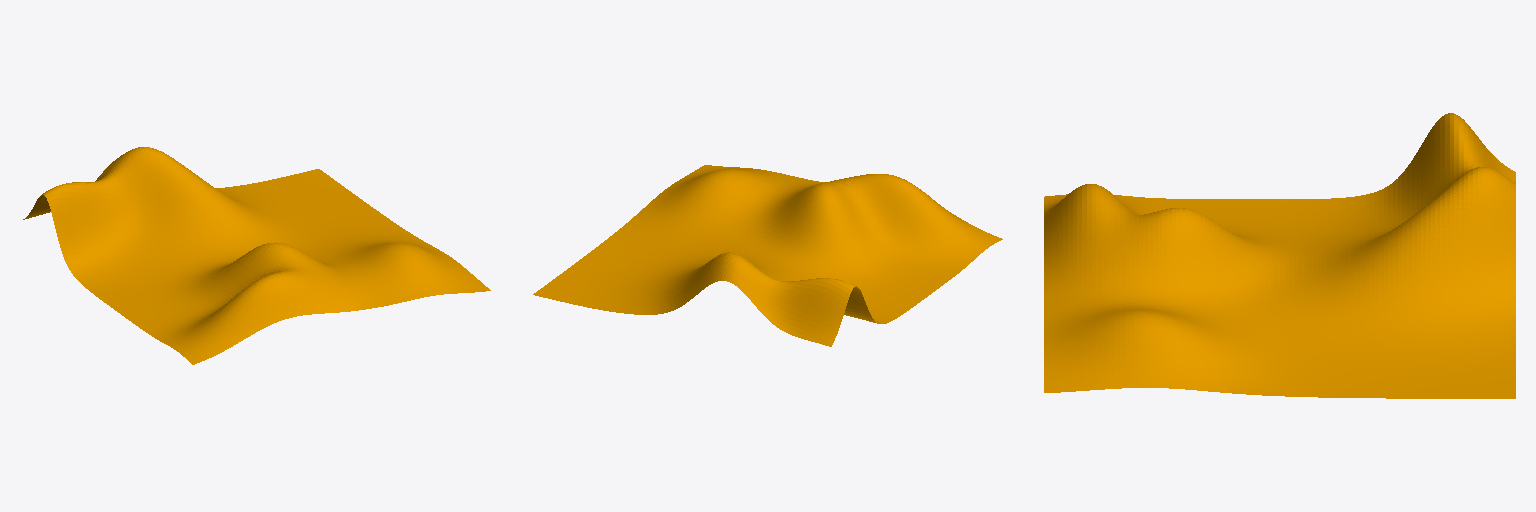
The robot description file, URDF, robot "terrain":
<?xml version="1.0" ?>
<robot name="terrain">

  <link name="terrain_link">
    <visual>
      <origin xyz="0 0 0" rpy="0 0 0"/>
      <geometry>
        <mesh filename="generation\Terrain_Generation\terrain_type\Mountain\Mountain_8Peaks_150Height_42Seed.obj" scale="1 1 1"/>
      </geometry>
    </visual>
    <collision>
      <origin xyz="0 0 0" rpy="0 0 0"/>
      <geometry>
        <mesh filename="generation\Terrain_Generation\terrain_type\Mountain\Mountain_8Peaks_150Height_42Seed.obj" scale="1 1 1"/>
      </geometry>
    </collision>
  </link>

</robot>

--- Facts derived from the render (not from the file) ---
The picture shows the robot from 3 angles, left to right: view 1: azimuth 30°, elevation 25°; view 2: azimuth 150°, elevation 25°; view 3: azimuth 270°, elevation 25°; orthographic projection.
Robot: terrain — 1 links, 0 joints (none); root link terrain_link; default pose: all joints at 0.
Visible links, largest first — view 1: terrain_link; view 2: terrain_link; view 3: terrain_link.
Link boxes in pixels (x1,y1,x2,y2): terrain_link: (23, 147, 490, 364); terrain_link: (533, 165, 1002, 346); terrain_link: (1044, 113, 1515, 398).
Size in the robot's own frame: 1000 by 1000 by 242 metres.
Meshes: 1 distinct files referenced, 1 mesh visuals loaded (1 OBJ).